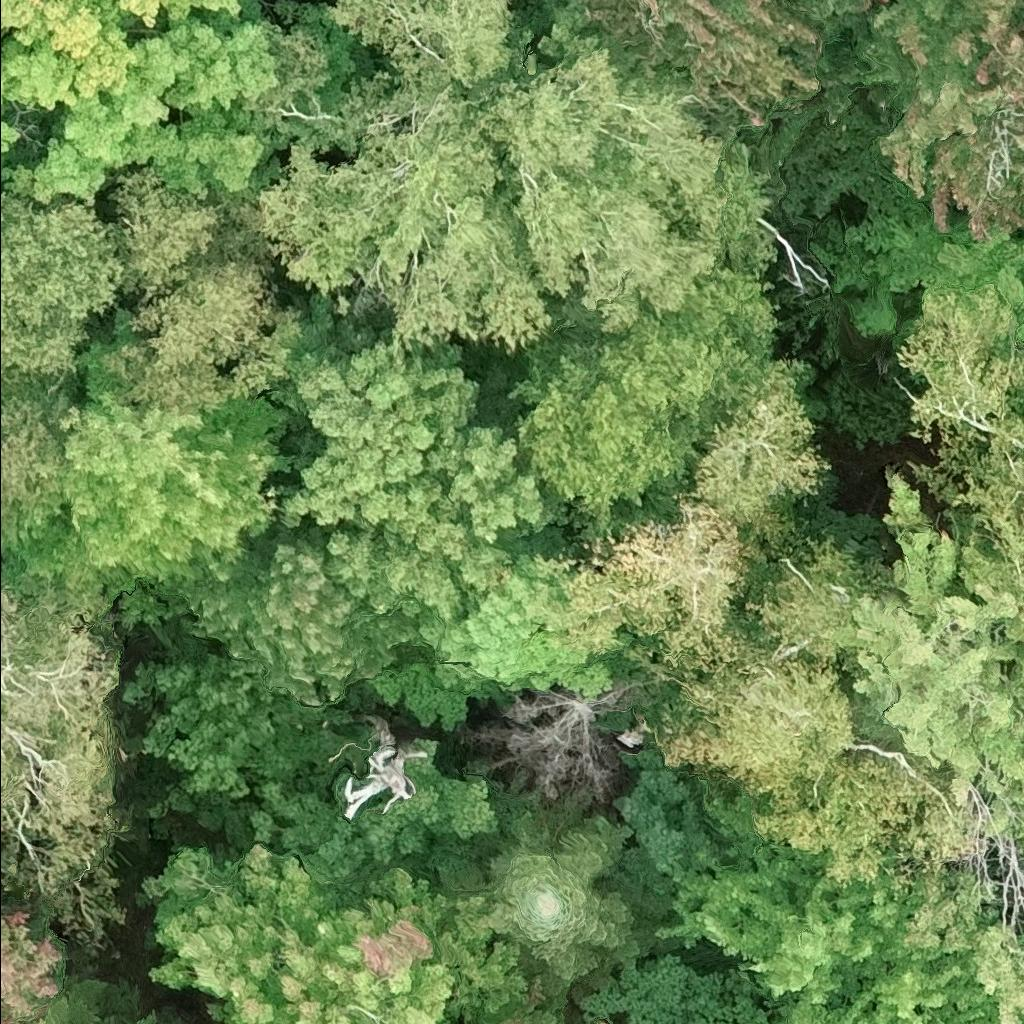crown: (505, 137, 780, 537), (262, 304, 561, 620), (0, 336, 298, 604), (142, 840, 568, 1023), (832, 474, 1023, 873), (477, 44, 733, 335), (653, 835, 1023, 1023), (234, 67, 501, 314), (2, 0, 285, 208), (895, 281, 1023, 707), (94, 166, 306, 411), (186, 524, 446, 709), (531, 486, 771, 673), (0, 584, 125, 941), (842, 0, 1023, 242), (627, 634, 854, 795), (706, 752, 968, 891), (577, 0, 824, 145), (476, 809, 645, 1008), (375, 182, 559, 360), (805, 196, 1023, 343), (0, 0, 243, 115), (692, 354, 834, 544), (428, 551, 614, 696), (0, 190, 122, 383), (323, 0, 533, 111), (480, 684, 638, 801), (740, 530, 867, 665), (0, 374, 61, 525), (0, 906, 67, 1023), (18, 980, 109, 1023), (0, 115, 27, 191), (136, 1013, 154, 1023), (92, 1018, 115, 1023), (495, 1020, 527, 1023), (583, 1019, 606, 1023)
